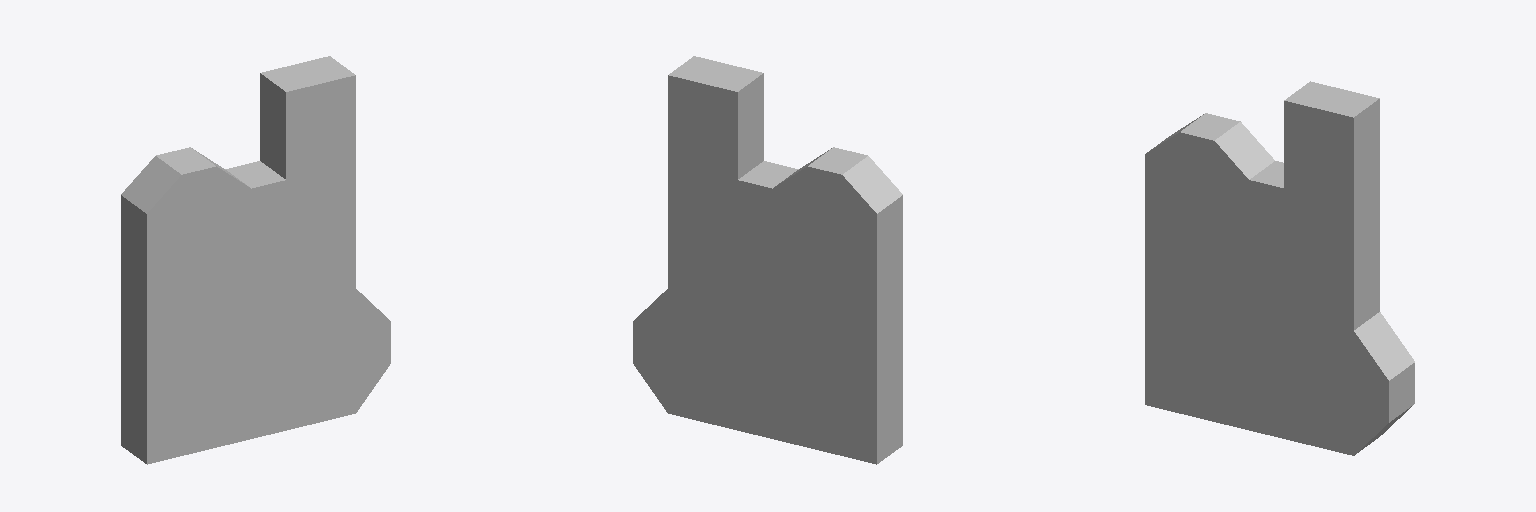
File: bigger.obj
3 views of the same model, side by side, from view 1: azimuth 30°, elevation 25°; view 2: azimuth 150°, elevation 25°; view 3: azimuth 330°, elevation 25° (orthographic).
Visible parts, largest first — view 1: ceiling_Cube.002, other_wall_Cube.011, hall_other_wall_Cube.009, back_hall_wall_Cube.008, chamfer_4_Cube.013, flawt_1_Cube.014, section_Cube.016; view 2: floor_Cube.012, other_wall_Cube.011, hall_other_wall_Cube.009, back_hall_wall_Cube.008, chamfer_4_Cube.013, flawt_1_Cube.014, section_Cube.016; view 3: ceiling_Cube.002, hall_wall_Cube.007, chanfer_2_Cube.006, back_hall_wall_Cube.008, chamfer1_Cube.015, flat_2_Cube.005, flawt_1_Cube.014, section_Cube.016.
Part boxes in pixels (x1,y1,x2,y2): ceiling_Cube.002: (147,75,390,464); other_wall_Cube.011: (121,195,146,463); hall_other_wall_Cube.009: (260,73,285,178); back_hall_wall_Cube.008: (261,56,354,91); chamfer_4_Cube.013: (121,156,180,213); flawt_1_Cube.014: (156,147,215,174); section_Cube.016: (225,161,285,188); floor_Cube.012: (633,75,876,464); other_wall_Cube.011: (877,195,902,463); hall_other_wall_Cube.009: (738,73,763,178); back_hall_wall_Cube.008: (669,56,762,91); chamfer_4_Cube.013: (843,156,902,213); flawt_1_Cube.014: (808,147,867,174); section_Cube.016: (738,161,798,188); ceiling_Cube.002: (1145,101,1388,455); hall_wall_Cube.007: (1354,99,1379,329); chanfer_2_Cube.006: (1354,312,1414,380); back_hall_wall_Cube.008: (1284,81,1379,117); chamfer1_Cube.015: (1215,122,1274,179); flat_2_Cube.005: (1389,363,1414,422); flawt_1_Cube.014: (1181,113,1240,140); section_Cube.016: (1250,161,1283,187).
Size of the model in its own units: 16.13 by 21.34 by 3.